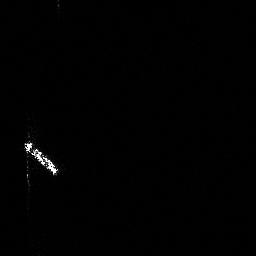ship: (21, 137, 62, 179)
